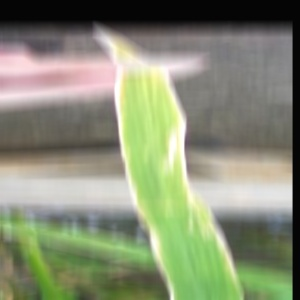Leaf_Blast: (117, 69, 191, 226)
